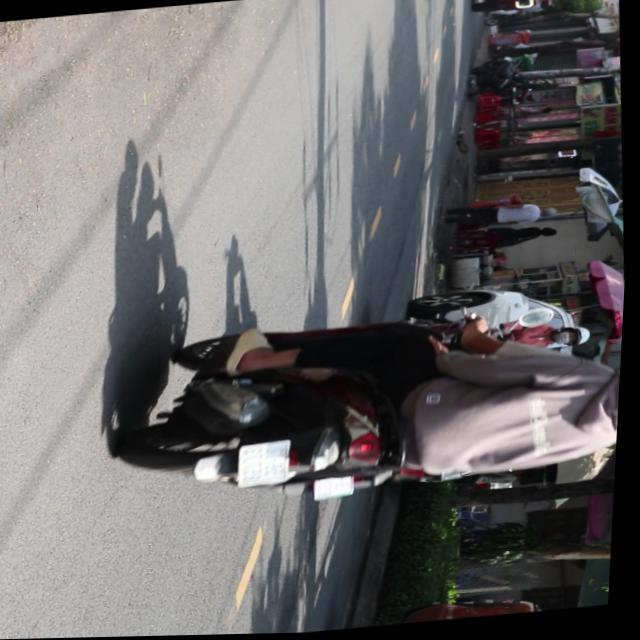helmet: (554, 326, 596, 352)
licenseplate: (102, 290, 628, 526)
nohelmet: (241, 441, 298, 488)
